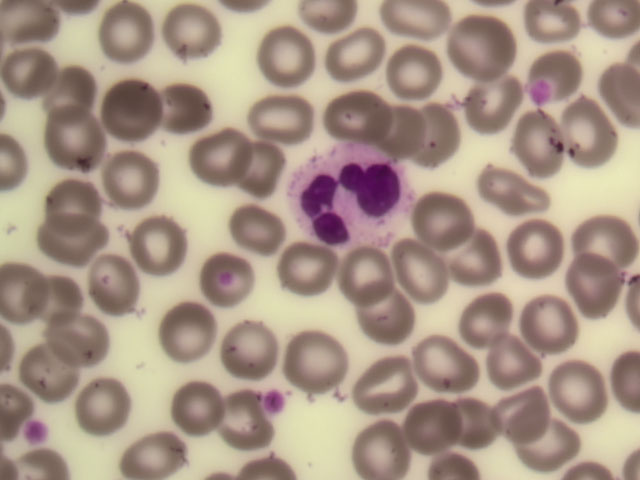Platelets: (22, 423, 49, 445), (260, 393, 284, 413), (532, 80, 545, 106)
RBC: (4, 46, 56, 101), (47, 57, 99, 112), (44, 111, 96, 166), (109, 83, 161, 138), (163, 86, 215, 141), (167, 4, 219, 59), (102, 5, 154, 60), (252, 82, 304, 137), (265, 26, 317, 81), (236, 141, 288, 196), (198, 130, 250, 185), (104, 153, 156, 208), (50, 174, 102, 229), (40, 210, 92, 265), (138, 209, 190, 264), (83, 259, 135, 314), (29, 268, 81, 323), (5, 271, 57, 326), (57, 307, 109, 362), (29, 341, 81, 396), (79, 378, 131, 433), (130, 418, 182, 473), (177, 381, 229, 436), (160, 301, 212, 356), (209, 255, 261, 310), (237, 195, 289, 250), (281, 236, 333, 291), (344, 252, 396, 307), (356, 288, 408, 343), (299, 328, 351, 383), (224, 321, 276, 376), (361, 358, 413, 413), (427, 338, 479, 393), (462, 291, 514, 346), (490, 333, 542, 388), (519, 300, 571, 355), (567, 254, 619, 309), (576, 221, 628, 276), (515, 220, 567, 275), (448, 230, 500, 285), (421, 198, 473, 253), (404, 231, 456, 286), (486, 163, 538, 218), (510, 118, 562, 173), (561, 98, 613, 153), (549, 48, 601, 103), (461, 19, 513, 74), (466, 76, 518, 131), (418, 101, 470, 156), (364, 96, 416, 151), (324, 84, 376, 139), (328, 25, 380, 80), (389, 51, 441, 106), (394, 1, 446, 56), (445, 387, 497, 442), (416, 404, 468, 459), (355, 423, 407, 478), (506, 383, 558, 438), (549, 363, 601, 418), (530, 411, 582, 466)
WBC: (293, 147, 415, 244)
